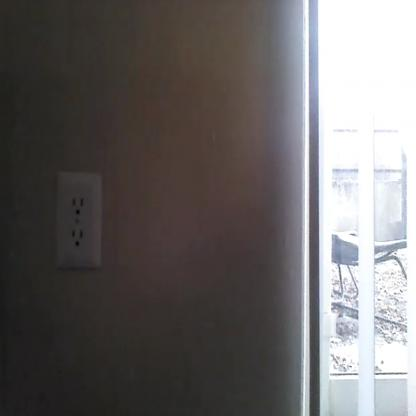OUTLET: (57, 172, 101, 268)
